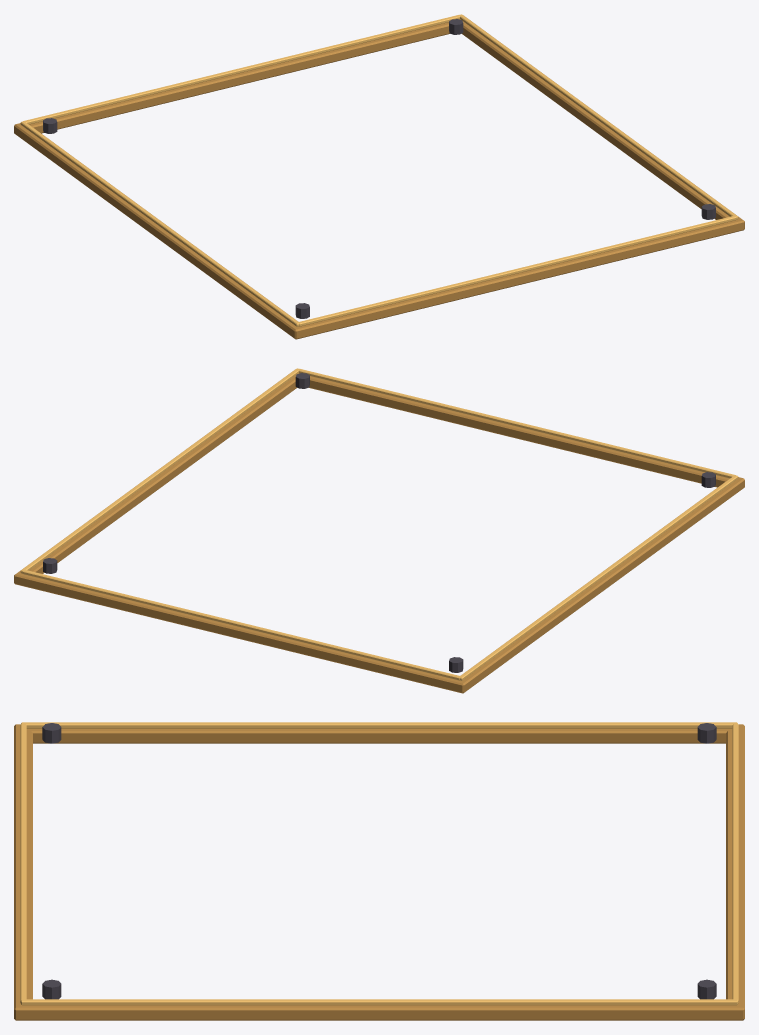
File: SM_S3_TileRim.fbx
3 renders of one model, top to bottom at view 1: azimuth 30°, elevation 25°; view 2: azimuth 150°, elevation 25°; view 3: azimuth 270°, elevation 25°, orthographic. The views are drawn at different scales.
Parts seen in each view (by area): view 1: SM_S3_TileRim; view 2: SM_S3_TileRim; view 3: SM_S3_TileRim.
Part boxes in pixels (bbox=[...]): SM_S3_TileRim: bbox=[14, 14, 744, 339]; SM_S3_TileRim: bbox=[14, 368, 744, 693]; SM_S3_TileRim: bbox=[14, 722, 744, 1020].
Size of the model in its own units: 142 by 154 by 5.5.
